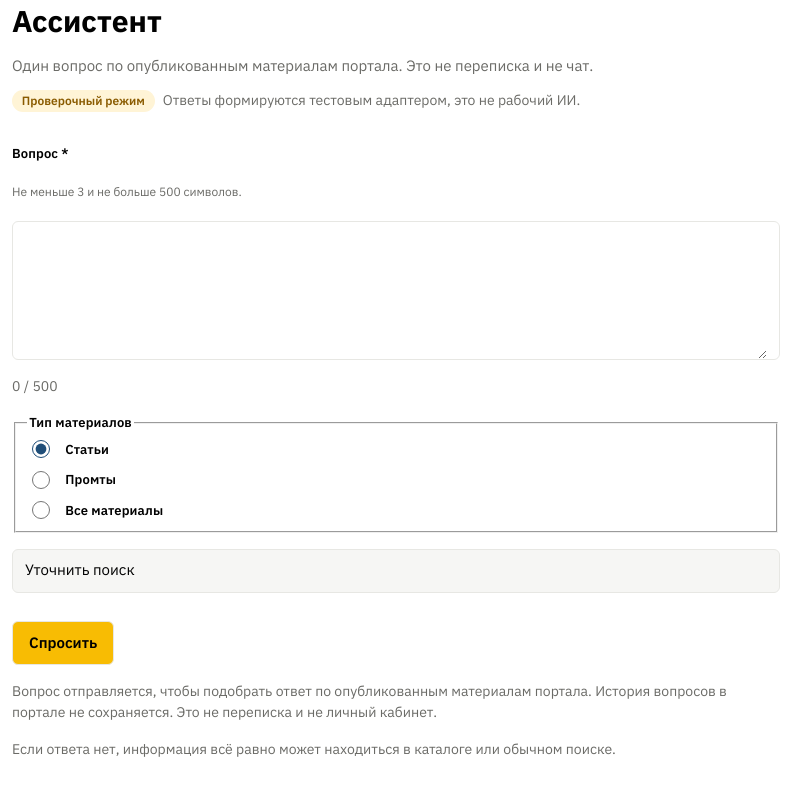
Test: assistant request lifecycle › does not persist question in URL or web storage
Step 1. Type "Как оформить отпуск?" into the text box labelled "Вопрос *" → [396, 291], box [25,222,767,359]
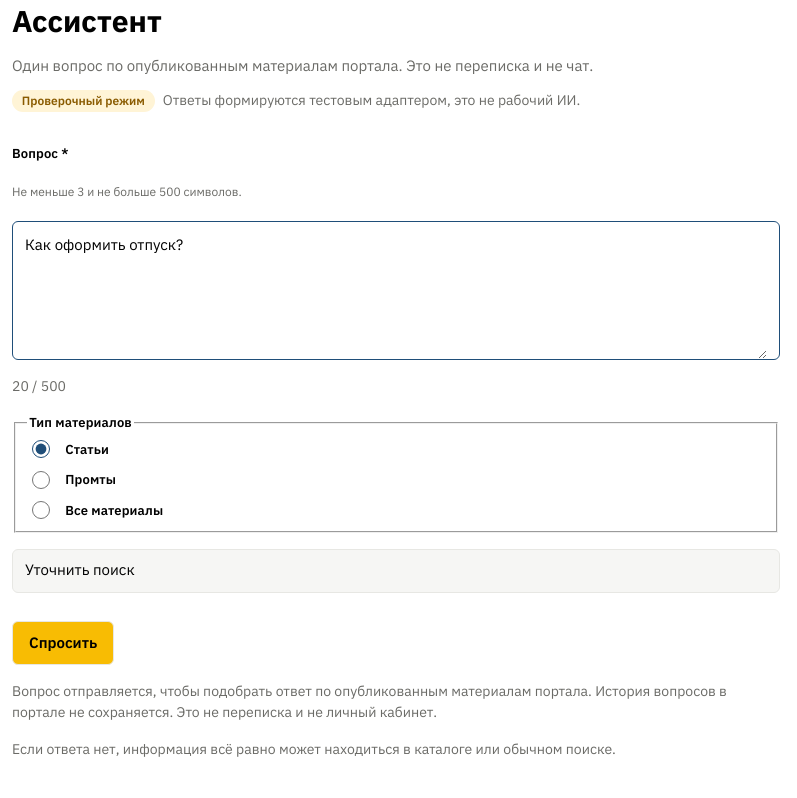
Step 2. Click the button "Спросить" → [63, 642], box [12,620,114,664]
(page scrolled)
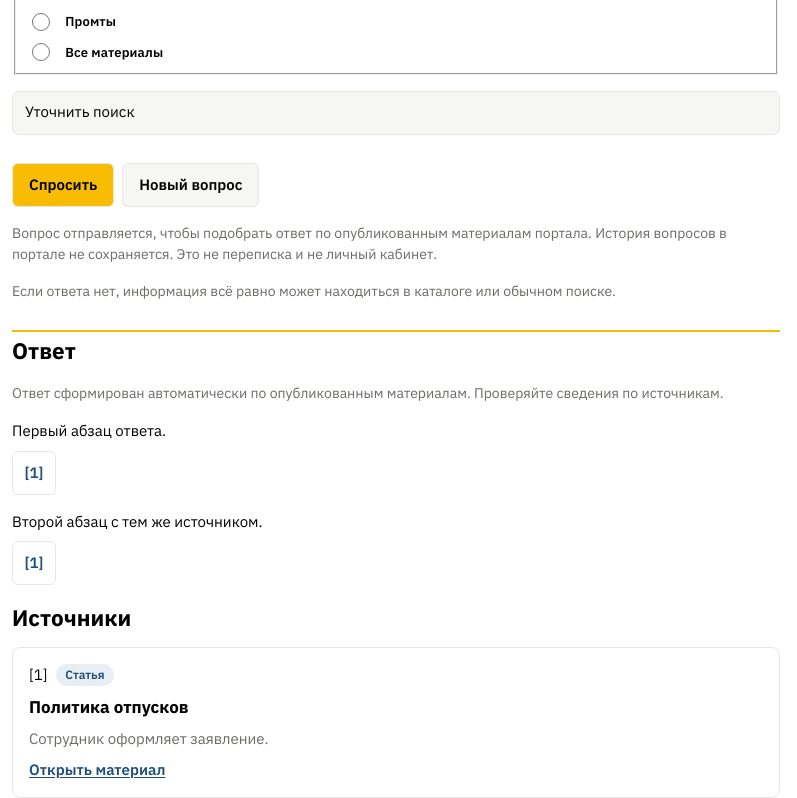
Expected: the heading "Ответ" is shown, [12,336,76,364]
